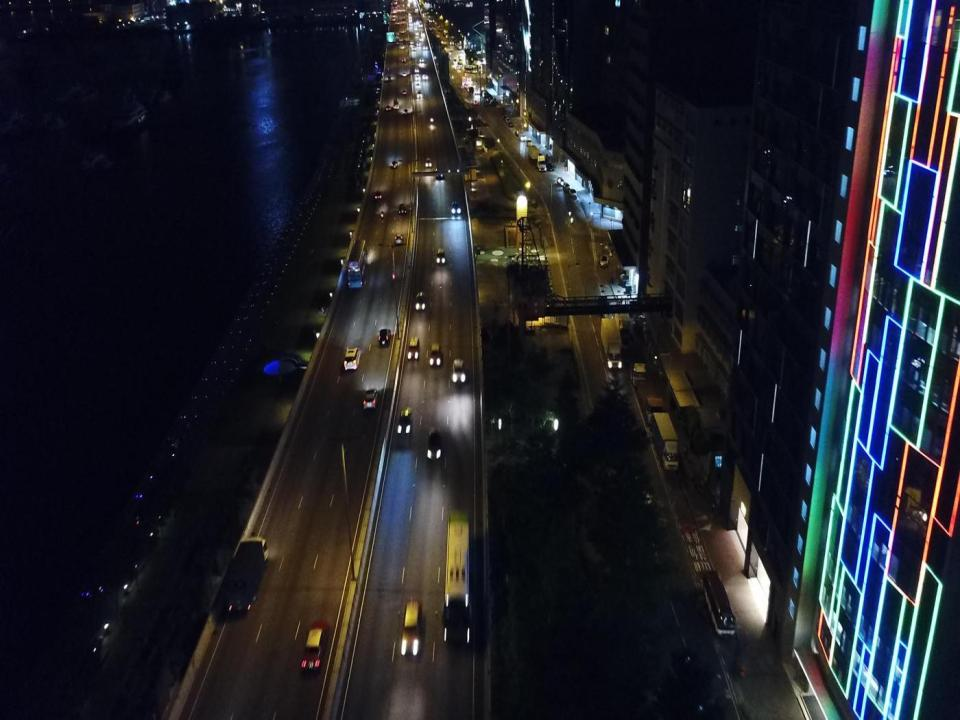bus: (444, 511, 470, 640), (702, 569, 735, 638), (347, 238, 368, 288), (416, 291, 425, 310), (464, 65, 477, 73), (393, 98, 399, 109), (394, 32, 399, 44), (459, 57, 462, 64), (393, 0, 396, 4)
car: (302, 620, 328, 674), (400, 600, 422, 658), (427, 426, 442, 460), (398, 407, 412, 434), (363, 389, 378, 410), (452, 358, 464, 384), (408, 337, 420, 360), (429, 344, 441, 366), (378, 329, 391, 346), (599, 255, 609, 268), (452, 202, 460, 215), (398, 203, 406, 214), (569, 188, 577, 198), (436, 166, 442, 179), (374, 190, 382, 199), (563, 183, 570, 191), (546, 163, 552, 171), (392, 161, 398, 168), (426, 158, 431, 166), (520, 134, 525, 141), (386, 77, 392, 82), (419, 63, 424, 69), (472, 100, 478, 105), (508, 122, 513, 127), (423, 74, 427, 80), (502, 115, 506, 121), (402, 72, 406, 77), (414, 68, 419, 72), (416, 75, 420, 80), (416, 83, 420, 88), (404, 109, 408, 114), (516, 131, 520, 136), (506, 118, 510, 123), (452, 59, 456, 64), (400, 45, 404, 49), (410, 40, 414, 44), (423, 45, 427, 49), (402, 90, 406, 94), (386, 106, 390, 110), (401, 29, 404, 34), (421, 31, 424, 36), (396, 21, 399, 25), (402, 58, 405, 62), (417, 42, 420, 46), (412, 46, 415, 50), (467, 77, 471, 80), (456, 66, 460, 69), (415, 6, 417, 11), (393, 8, 396, 11), (392, 14, 395, 17), (392, 18, 395, 21), (420, 38, 423, 41), (420, 58, 423, 61), (393, 6, 396, 8), (402, 21, 404, 24), (409, 12, 411, 15), (397, 5, 399, 7)
truck: (225, 535, 267, 614), (652, 413, 679, 471), (635, 379, 664, 423), (600, 317, 623, 369), (627, 342, 646, 383), (614, 311, 630, 345), (528, 145, 539, 159), (538, 155, 545, 173), (419, 21, 422, 27)
van: (344, 347, 361, 371), (438, 249, 445, 265), (395, 233, 403, 245), (558, 178, 564, 186), (526, 139, 532, 146), (417, 90, 421, 98)
